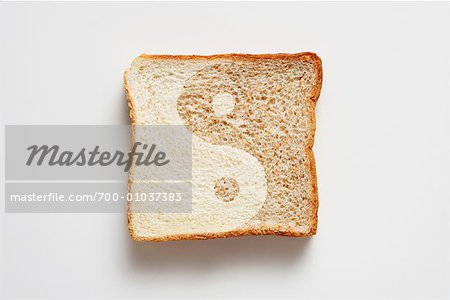slice of bread: (123, 49, 324, 242)
